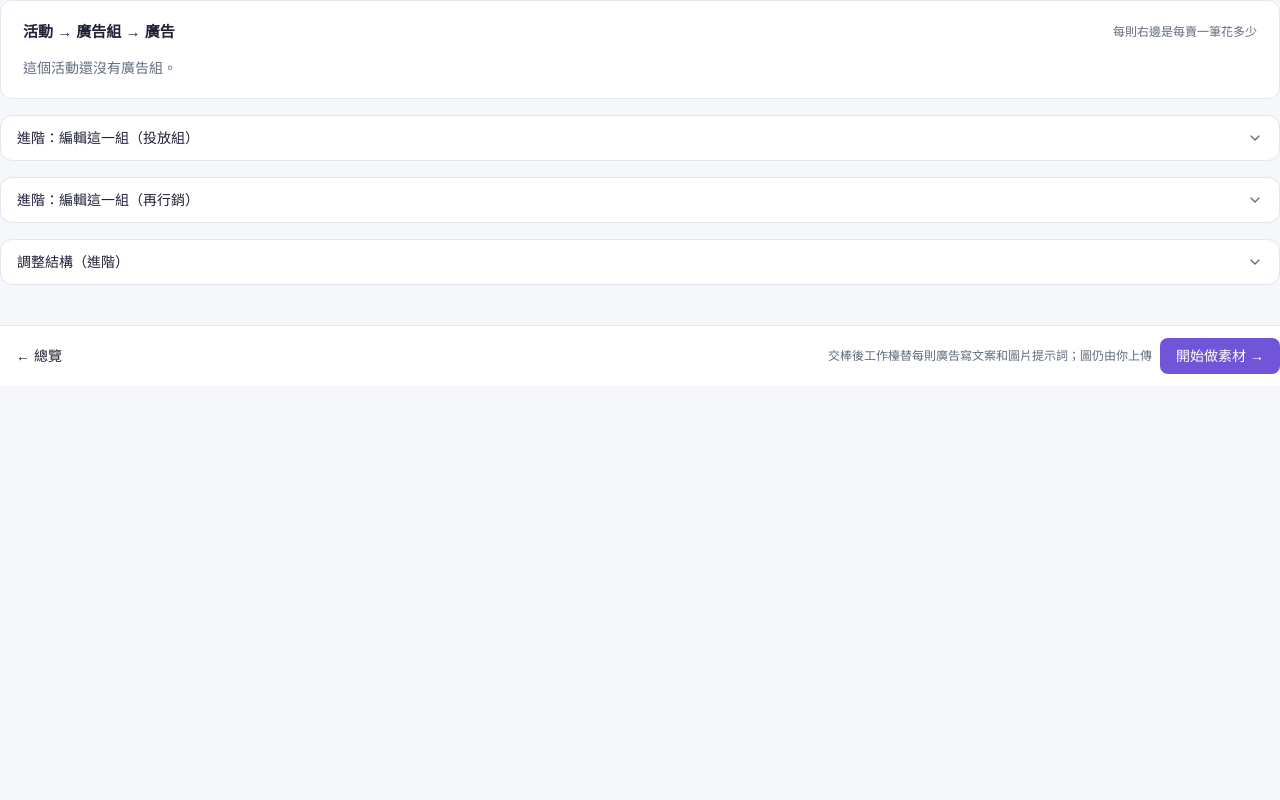
Test case: DeliveryTab（F06-I02） › 每個投放組各有一個「進階：編輯這一組」；在這一組新增廣告時預設選這一組
The image size is (1280, 800).
Expected: the button "進階：編輯這一組（投放組）" is shown, [1,116,1279,160]
Click the button "進階：編輯這一組（再行銷）".
click(108, 200)  # box [1,178,1279,222]
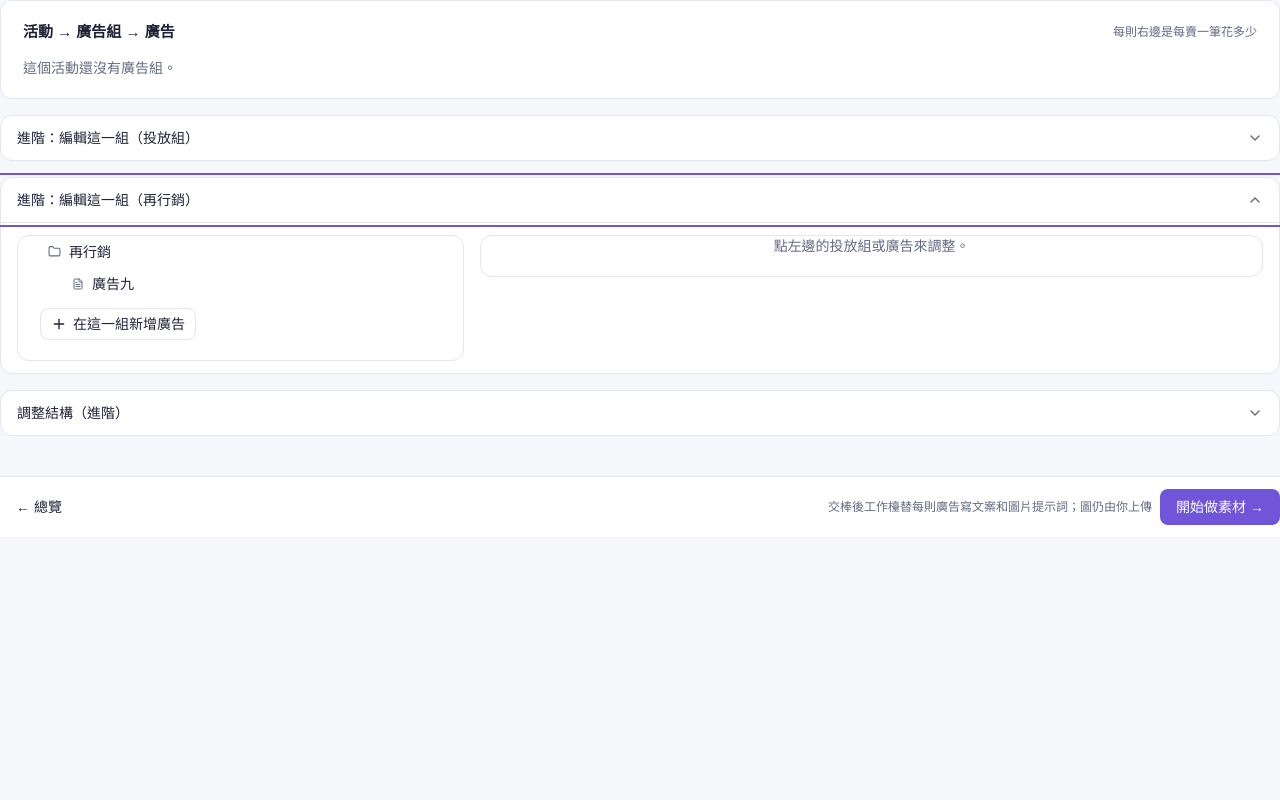
Now the button "廣告九" is shown, box [40,268,441,300]
Click the button "在這一組新增廣告".
click(118, 324)  # box [40,308,196,340]
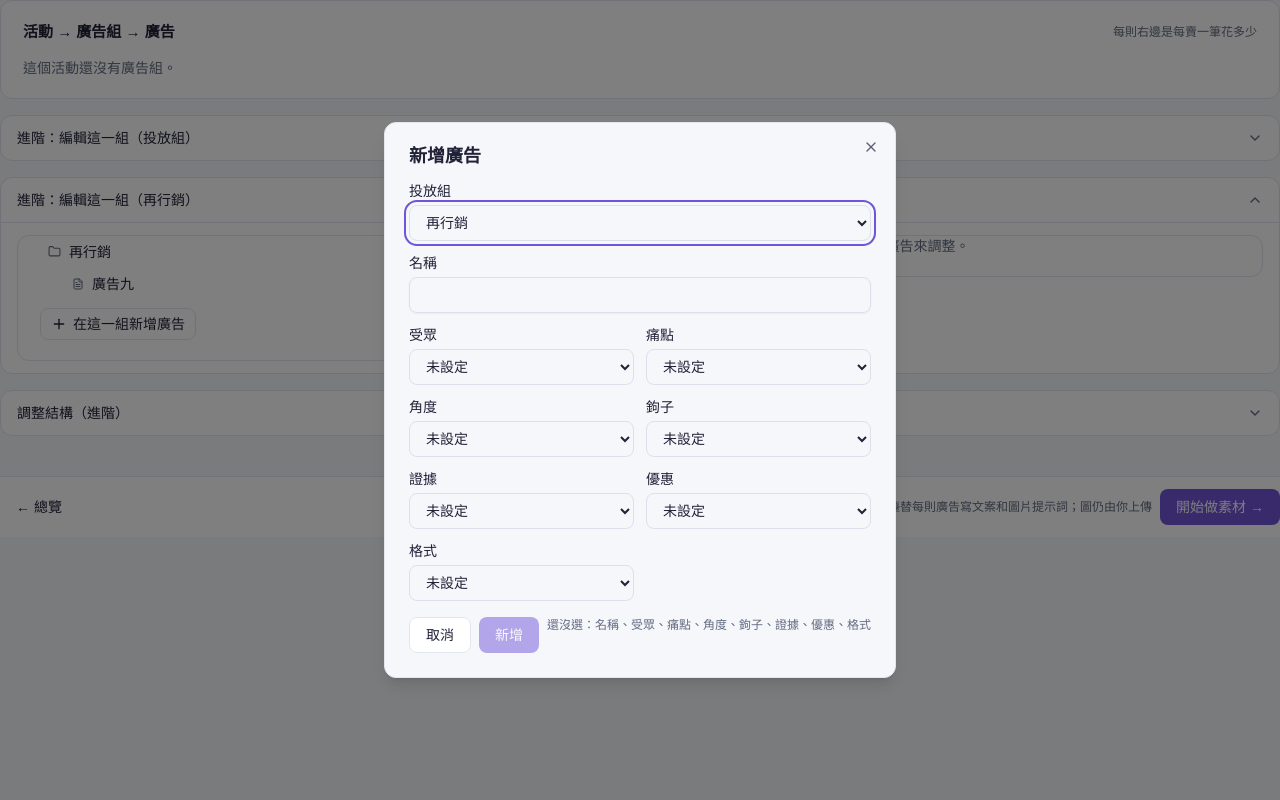
Now the dropdown labelled "投放組" shows "再行銷", box [409,205,871,241]
Now the button "新增" is disabled, box [479,617,539,653]
Now the text "還沒選：名稱、受眾、痛點、角度、鉤子、證據、優惠、格式" is shown, box [547,618,871,632]
